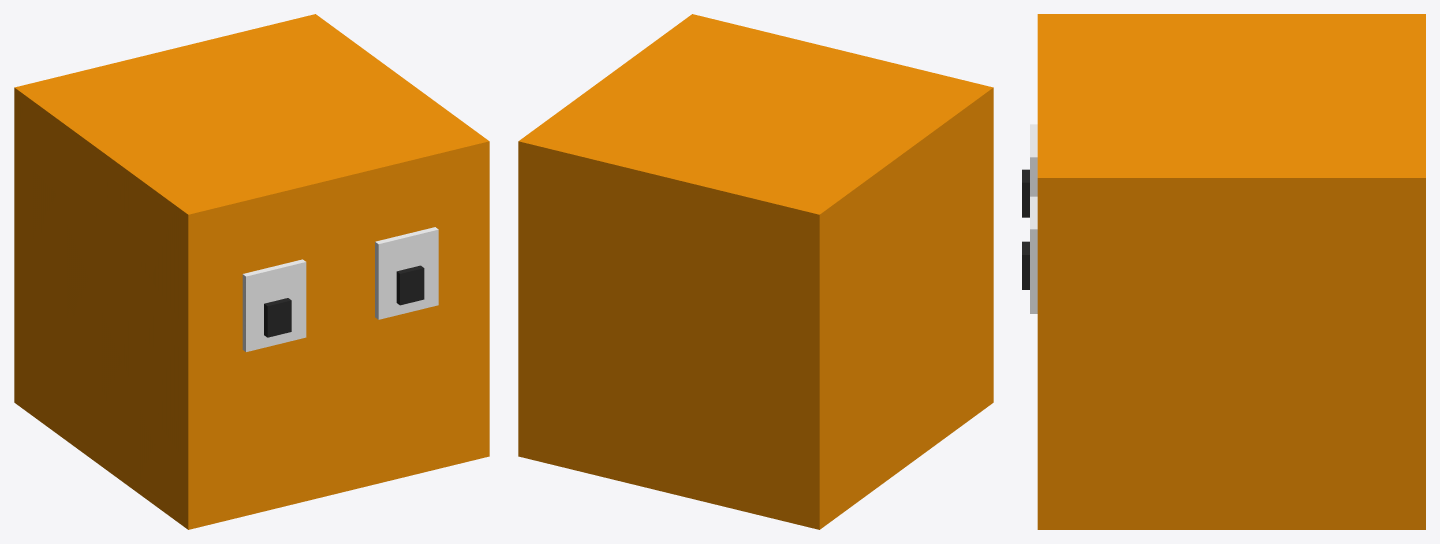
The model's file is lingo-2018.glb.
3 renders of one model, left to right at view 1: azimuth 30°, elevation 25°; view 2: azimuth 150°, elevation 25°; view 3: azimuth 270°, elevation 25°, orthographic. The views are drawn at different scales.
Visible parts, largest first — view 1: Bloop; view 2: Bloop; view 3: Bloop.
Boxes of the visible parts, x1,y1,x2,y2 form: Bloop: (14,14,489,529); Bloop: (518,14,993,529); Bloop: (1022,14,1425,529).
Size of the model in its own units: 1 by 1 by 1.04.
